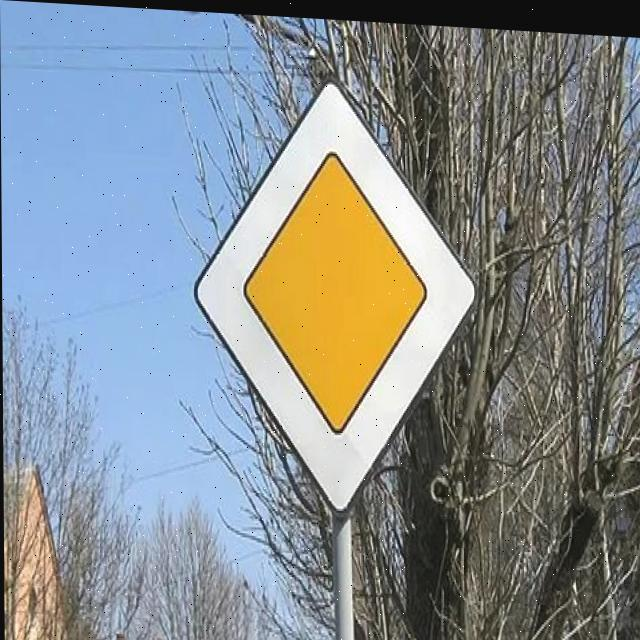signs: (188, 64, 481, 521)
